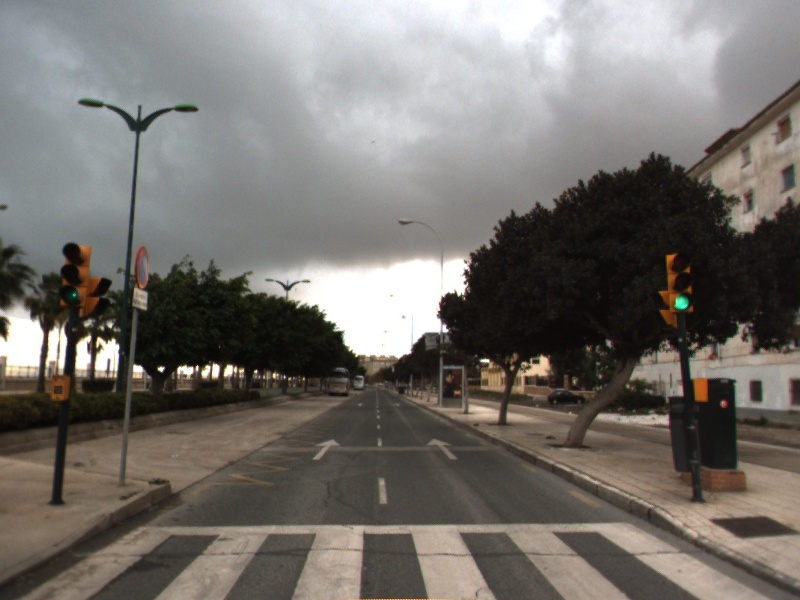STRAIGHT: (310, 437, 344, 462), (425, 437, 460, 461)
